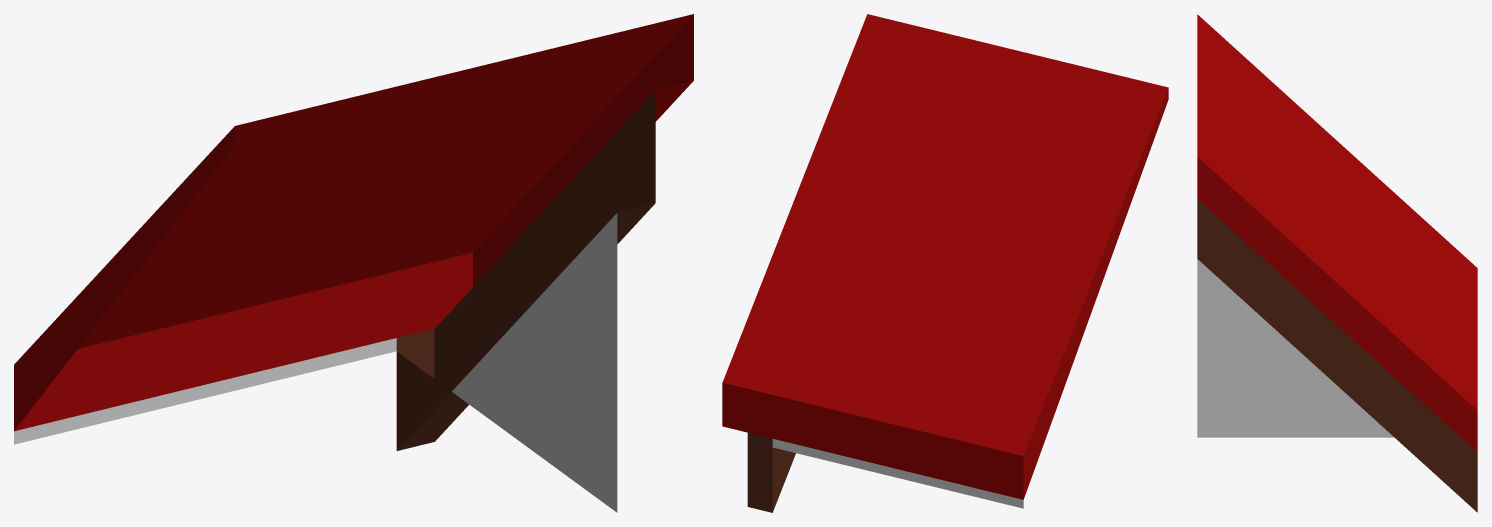
File: Roof_Edge_1_Top.fbx
3 views of the same model, side by side, from view 1: azimuth 30°, elevation 25°; view 2: azimuth 150°, elevation 25°; view 3: azimuth 270°, elevation 25° (orthographic). The views are drawn at different scales.
Visible parts, largest first — view 1: Roof_Edge_no; view 2: Roof_Edge_no; view 3: Roof_Edge_no.
Part boxes in pixels (<box>): Roof_Edge_no: <box>14,14,693,512</box>; Roof_Edge_no: <box>722,14,1168,512</box>; Roof_Edge_no: <box>1197,14,1477,512</box>.
Size of the model in its own units: 0.012 by 0.0145 by 0.01.
